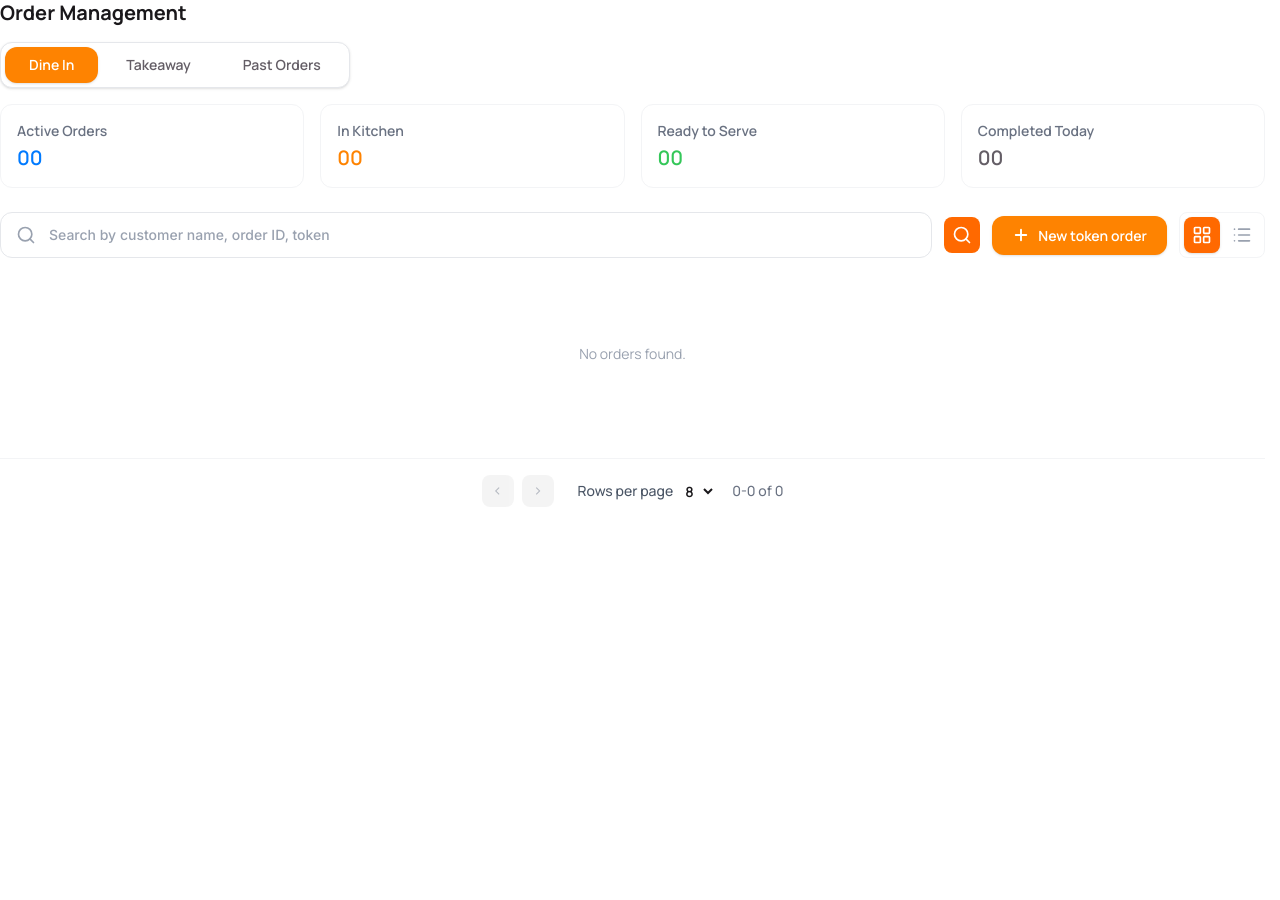
Test: OrdersDashboard — token-number mode › useTables:false: "New token order" posts a dine-in order without tableId and toasts the token
The image size is (1280, 900).
Click the button "New token order" at [1080, 235], box [992, 216, 1167, 254]
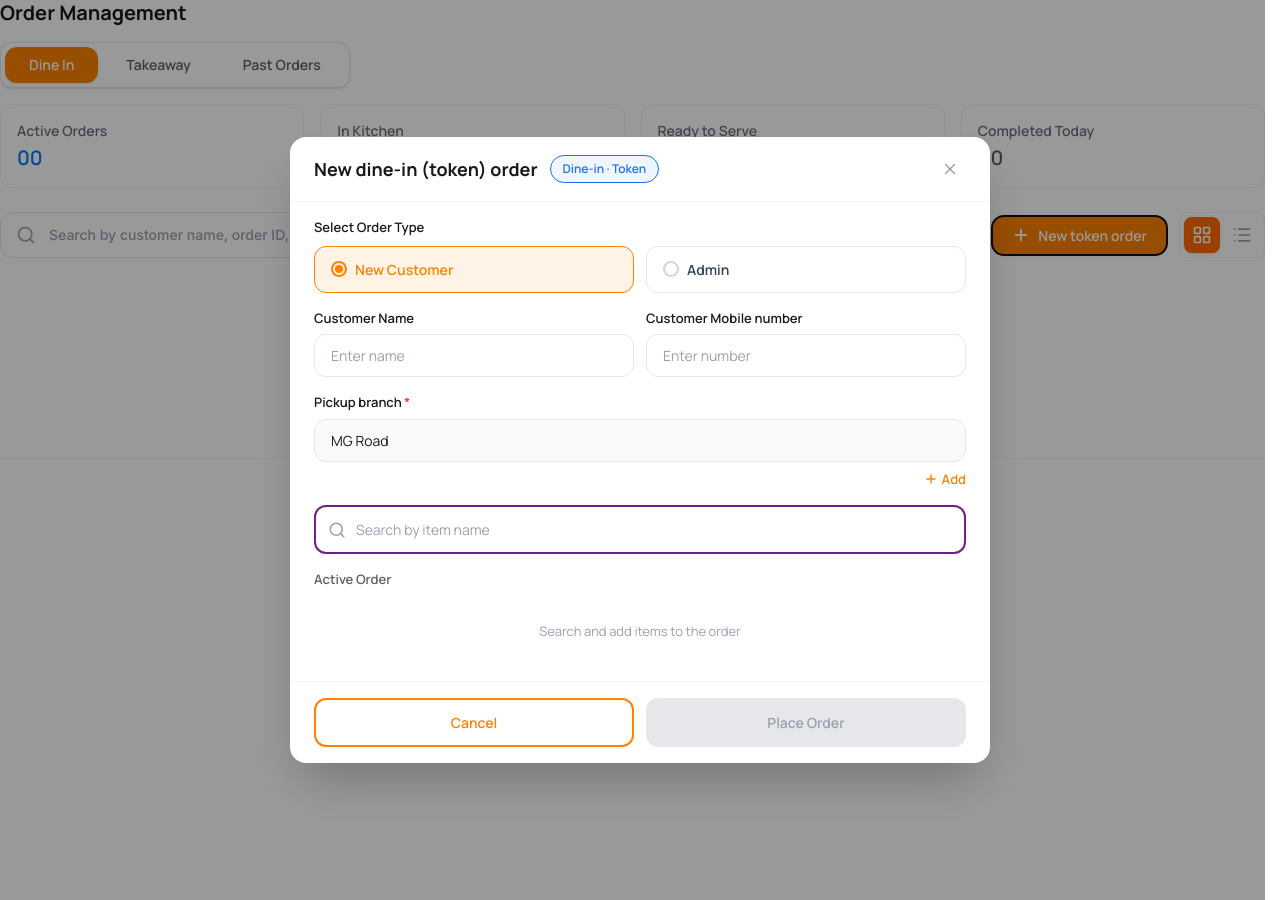
Expected: the heading "New dine-in (token) order" is shown, [314, 156, 538, 182]
Type "Tha" into the field with placeholder "Search by item name" at [640, 530], box [314, 505, 966, 554]
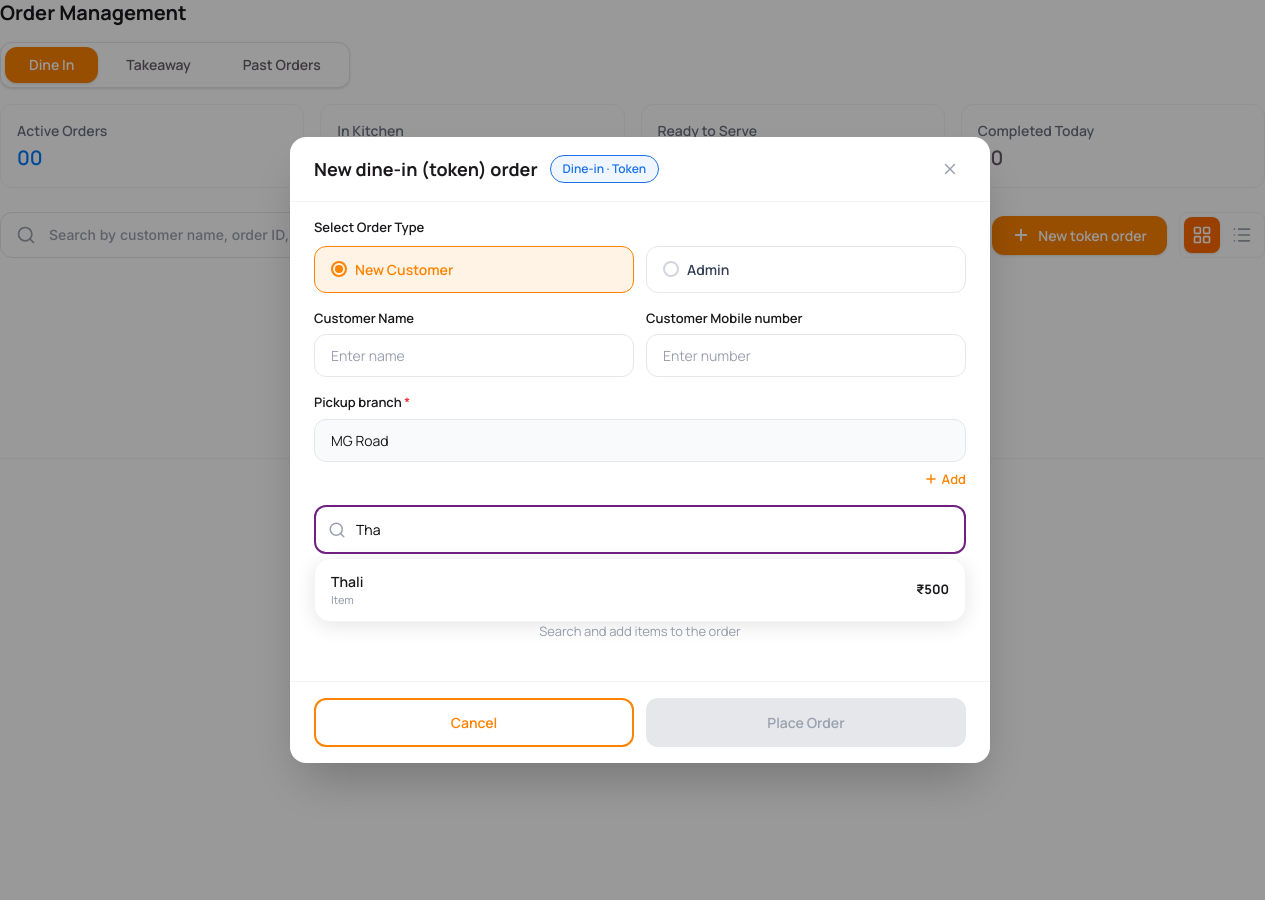
Click the text "Thali" at [347, 582], box [331, 571, 364, 592]
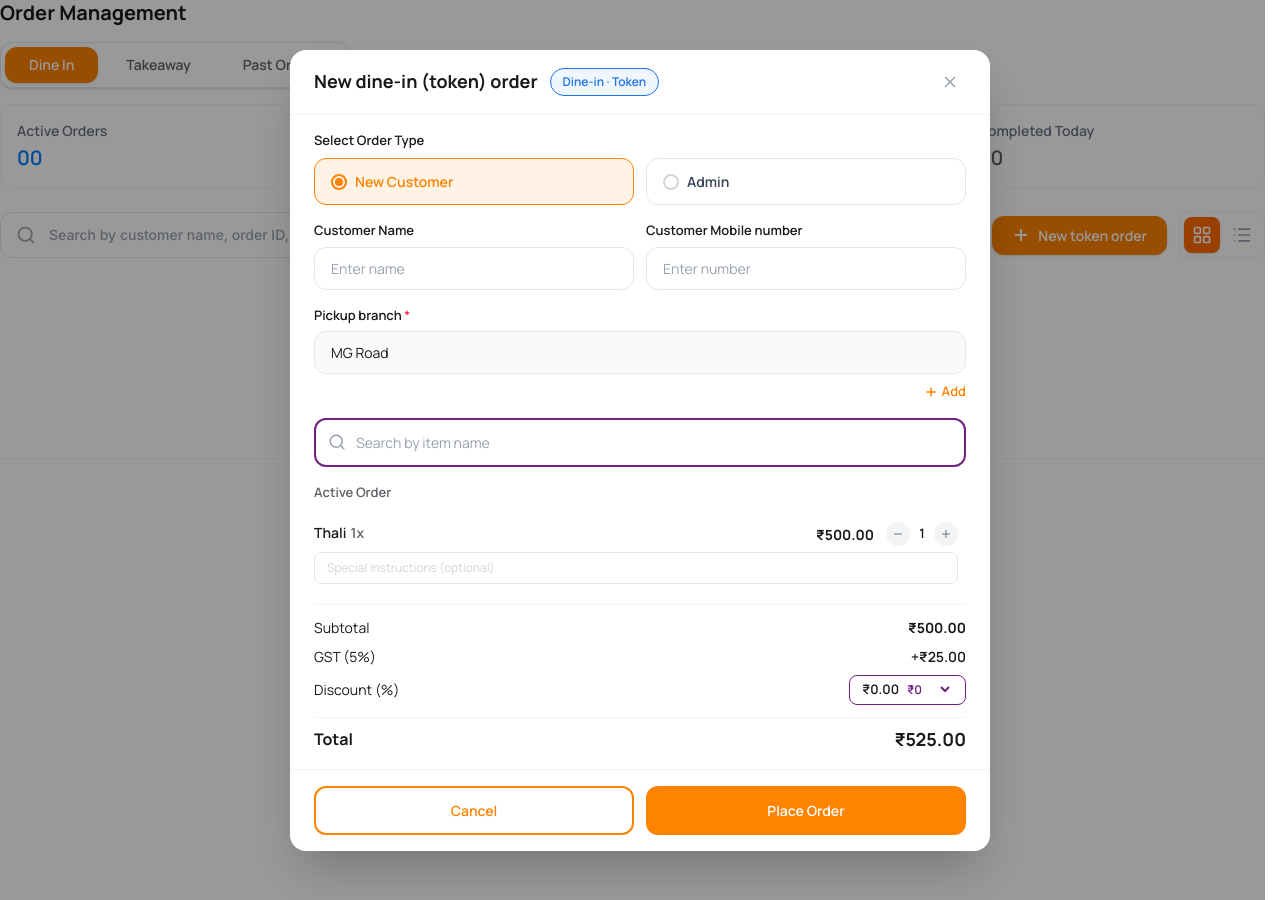
Click the button "Place Order" at [806, 810], box [646, 786, 966, 834]
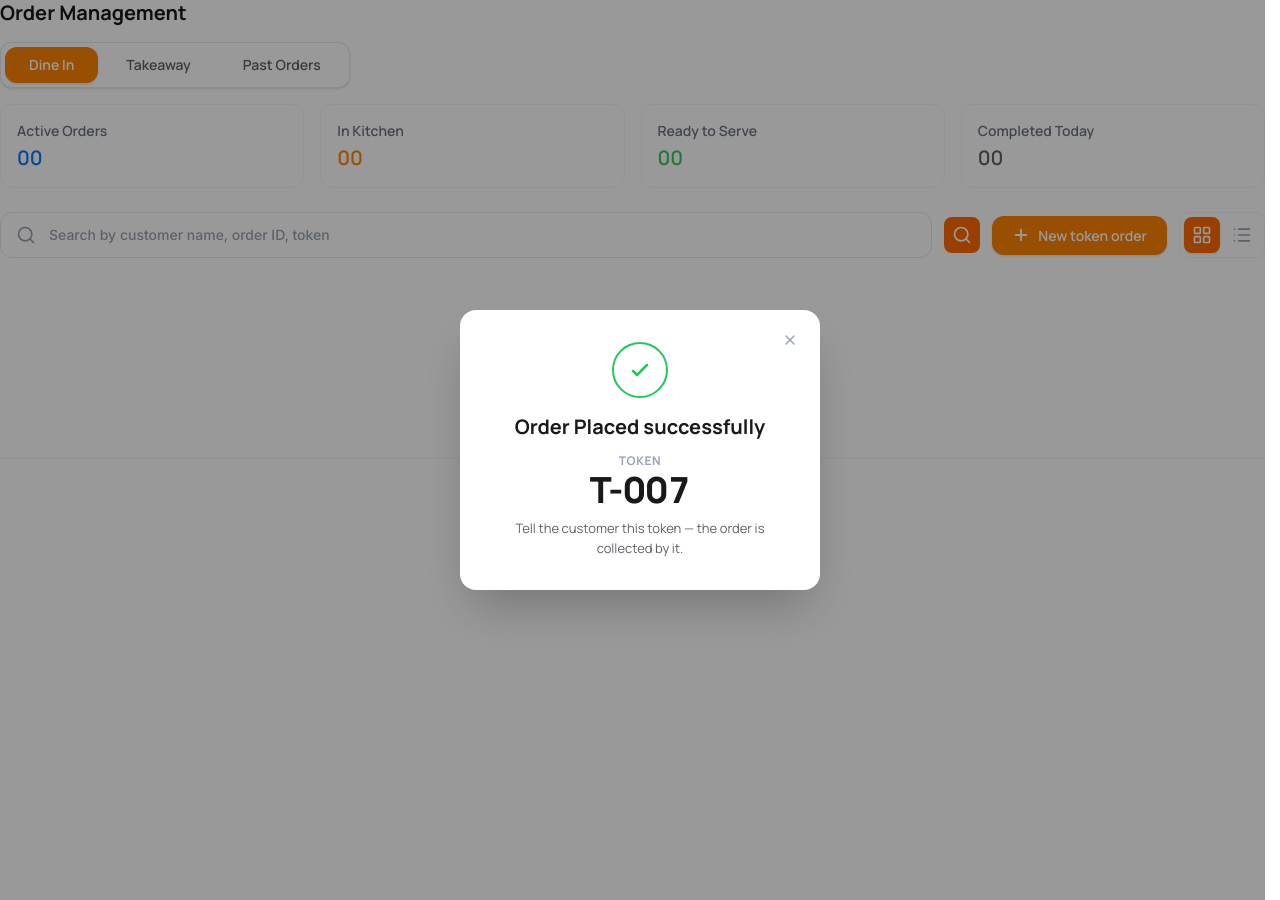
Expected: the text with test id "placed-token" reads "T-007", [590, 465, 690, 514]
